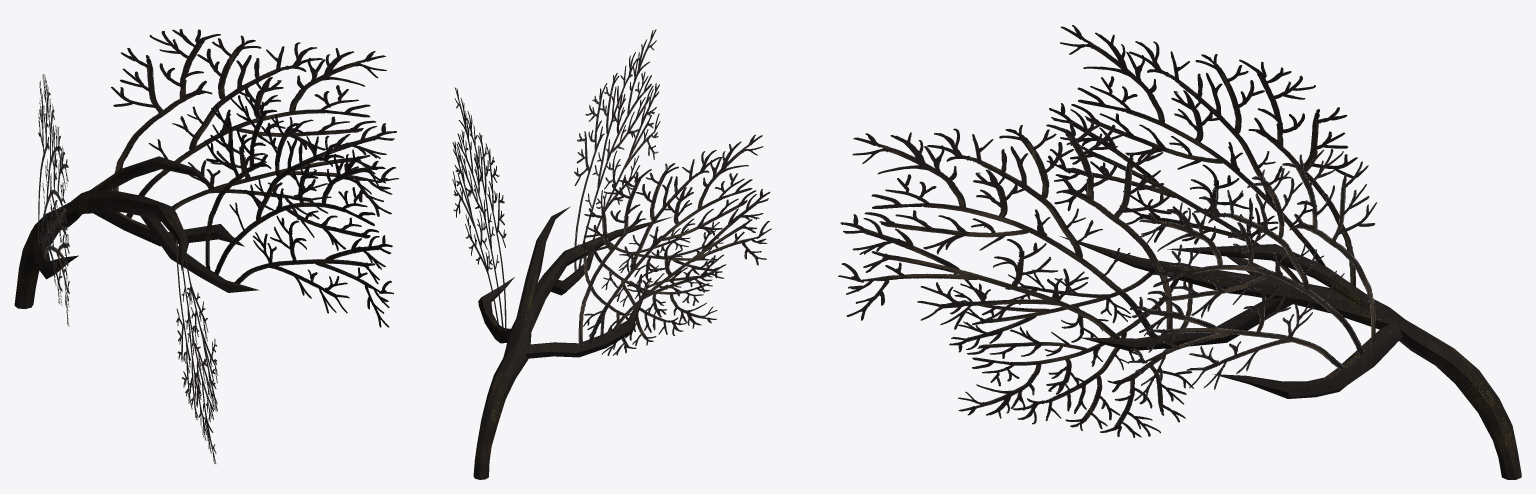
The model's file is Tree05.fbx.
3 renders of one model, left to right at view 1: azimuth 30°, elevation 25°; view 2: azimuth 150°, elevation 25°; view 3: azimuth 270°, elevation 25°, orthographic. The views are drawn at different scales.
Parts seen in each view (by area): view 1: Tree_05; view 2: Tree_05; view 3: Tree_05.
Boxes of the visible parts, left/top/right/bottom form: Tree_05: left=14, top=29, right=398, bottom=463; Tree_05: left=452, top=29, right=771, bottom=479; Tree_05: left=838, top=25, right=1521, bottom=479.
Size of the model in its own units: 3.73 by 3.12 by 5.24.
Materials: 2 (2 with a texture image).
